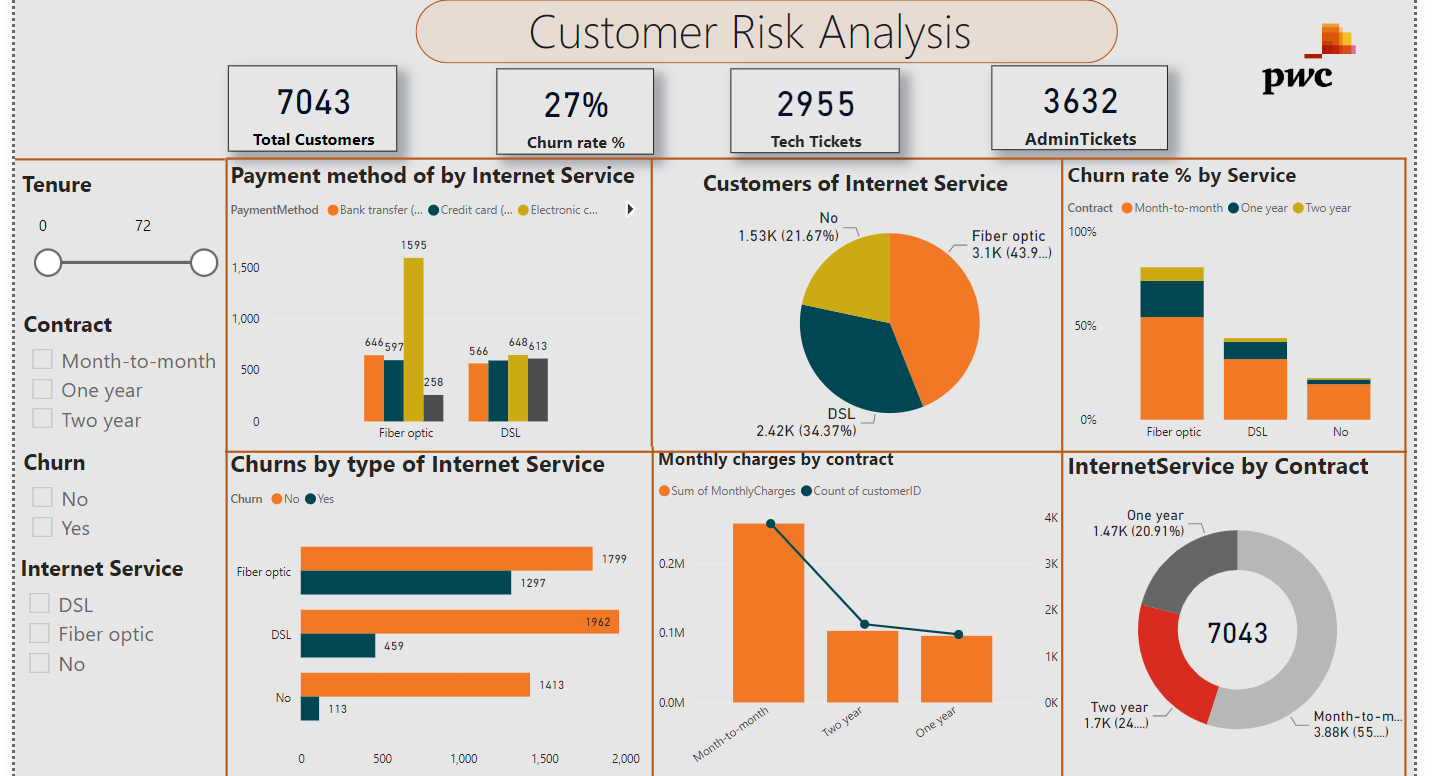

The dashboard page shown, as its layout file describes it:
{"tool":"powerbi","page":{"name":"Customer_Risk_Analysis","canvas":[1280,720],"ordinal":2},"visuals":[{"type":"card","fields":{"Values":["CountNonNull(Customer_Churn_Dataset.customerID)"]},"box":[194.2,67.9,154.7,78.9],"z":0},{"type":"textbox","box":[366.4,0,611.7,72.7],"z":1000},{"type":"slicer","title":"Churn","fields":{"Values":["Customer_Churn_Dataset.Churn"]},"box":[3,416.4,192.3,95.4],"z":2000},{"type":"slicer","title":"Internet Service","fields":{"Values":["Customer_Churn_Dataset.InternetService"]},"box":[0,513.3,192.3,127.2],"z":3000},{"type":"clusteredBarChart","title":"Churns by type of Internet Service","fields":{"Category":["Customer_Churn_Dataset.InternetService"],"Y":["CountNonNull(Customer_Churn_Dataset.Churn)"],"Series":["Customer_Churn_Dataset.Churn"]},"box":[192.3,416.4,407.3,302.8],"z":4000},{"type":"slicer","title":"Contract","fields":{"Values":["Customer_Churn_Dataset.Contract"]},"box":[3,289.2,192.3,127.2],"z":5000},{"type":"pieChart","title":"Customers of Internet Service","fields":{"Category":["Customer_Churn_Dataset.InternetService"],"Y":["CountNonNull(Customer_Churn_Dataset.customerID)"]},"box":[623.9,160.5,351.3,257.4],"z":6000},{"type":"card","fields":{"Values":["Customer_Churn_Dataset.Churn rate %"]},"box":[440.5,69.5,143.7,78.9],"z":7000},{"type":"card","fields":{"Values":["Sum(Customer_Churn_Dataset.numAdminTickets)"]},"box":[893.7,67.9,161.1,77.4],"z":8000},{"type":"clusteredColumnChart","title":"Payment method of by Internet Service","fields":{"Category":["Customer_Churn_Dataset.InternetService"],"Series":["Customer_Churn_Dataset.PaymentMethod"],"Y":["CountNonNull(Customer_Churn_Dataset.customerID)"]},"box":[192.6,153.2,390,266.8],"z":9000},{"type":"donutChart","title":"InternetService by Contract","fields":{"Category":["Customer_Churn_Dataset.Contract"],"Y":["CountNonNull(Customer_Churn_Dataset.InternetService)"]},"box":[958.4,416.8,320.5,303.2],"z":10000},{"type":"lineClusteredColumnComboChart","title":"Monthly charges by contract","fields":{"Y":["Sum(Customer_Churn_Dataset.MonthlyCharges)"],"Category":["Customer_Churn_Dataset.Contract"],"Y2":["CountNonNull(Customer_Churn_Dataset.customerID)"]},"box":[583,416.4,375.5,302.8],"z":11000},{"type":"card","fields":{"Values":["CountNonNull(Customer_Churn_Dataset.Contract)"]},"box":[1070.5,567.8,95.4,33.3],"z":12000},{"type":"slicer","title":"Tenure","fields":{"Values":["Customer_Churn_Dataset.tenure"]},"box":[1.5,162,192.3,113.6],"z":13000},{"type":"image","box":[1088.7,0,190.8,122.7],"z":14000},{"type":"columnChart","title":"Churn rate % by Service","fields":{"Y":["Customer_Churn_Dataset.Churn rate %"],"Series":["Customer_Churn_Dataset.Contract"],"Category":["Customer_Churn_Dataset.InternetService"]},"box":[958.4,153.2,320.5,265.3],"z":15000},{"type":"shape","box":[366.3,6.3,642.6,58.4],"z":16000},{"type":"shape","box":[193.8,122.7,1079.6,60.6],"z":17000},{"type":"shape","box":[163.5,152.9,60.6,566.3],"z":18000},{"type":"shape","box":[1265.9,152.9,13.6,566.3],"z":19000},{"type":"shape","box":[0,115.1,192.3,75.7],"z":20000},{"type":"shape","box":[552.7,152.9,59.1,263.5],"z":21000},{"type":"shape","box":[941.8,152.9,33.3,263.5],"z":22000},{"type":"shape","box":[566.3,416.4,33.3,302.8],"z":23000},{"type":"shape","box":[941.8,416.4,33.3,302.8],"z":24000},{"type":"card","fields":{"Values":["Customer_Churn_Dataset.Total Tech Tickets"]},"box":[655.3,69.5,154.7,77.4],"z":25000},{"type":"shape","box":[192.6,404.2,1081.6,31.6],"z":26000}]}

Visuals, with their boxes on the page's 1280x720 design canvas (x1, y1, x2, y2). These are canvas units, not pixel positions in the 1447x776 screenshot, which may show the page scaled, cropped or inside an application window:
card - CountNonNull(Customer_Churn_Dataset.customerID): {"left": 194, "top": 68, "right": 349, "bottom": 147}
textbox: {"left": 366, "top": 0, "right": 978, "bottom": 73}
"Churn" slicer: {"left": 3, "top": 416, "right": 195, "bottom": 512}
"Internet Service" slicer: {"left": 0, "top": 513, "right": 192, "bottom": 640}
"Churns by type of Internet Service" clusteredBarChart: {"left": 192, "top": 416, "right": 600, "bottom": 719}
"Contract" slicer: {"left": 3, "top": 289, "right": 195, "bottom": 416}
"Customers of Internet Service" pieChart: {"left": 624, "top": 160, "right": 975, "bottom": 418}
card - Customer_Churn_Dataset.Churn rate %: {"left": 440, "top": 70, "right": 584, "bottom": 148}
card - Sum(Customer_Churn_Dataset.numAdminTickets): {"left": 894, "top": 68, "right": 1055, "bottom": 145}
"Payment method of by Internet Service" clusteredColumnChart: {"left": 193, "top": 153, "right": 583, "bottom": 420}
"InternetService by Contract" donutChart: {"left": 958, "top": 417, "right": 1279, "bottom": 720}
"Monthly charges by contract" lineClusteredColumnComboChart: {"left": 583, "top": 416, "right": 958, "bottom": 719}
card - CountNonNull(Customer_Churn_Dataset.Contract): {"left": 1070, "top": 568, "right": 1166, "bottom": 601}
"Tenure" slicer: {"left": 2, "top": 162, "right": 194, "bottom": 276}
image: {"left": 1089, "top": 0, "right": 1280, "bottom": 123}
"Churn rate % by Service" columnChart: {"left": 958, "top": 153, "right": 1279, "bottom": 418}
shape: {"left": 366, "top": 6, "right": 1009, "bottom": 65}
shape: {"left": 194, "top": 123, "right": 1273, "bottom": 183}
shape: {"left": 164, "top": 153, "right": 224, "bottom": 719}
shape: {"left": 1266, "top": 153, "right": 1280, "bottom": 719}
shape: {"left": 0, "top": 115, "right": 192, "bottom": 191}
shape: {"left": 553, "top": 153, "right": 612, "bottom": 416}
shape: {"left": 942, "top": 153, "right": 975, "bottom": 416}
shape: {"left": 566, "top": 416, "right": 600, "bottom": 719}
shape: {"left": 942, "top": 416, "right": 975, "bottom": 719}
card - Customer_Churn_Dataset.Total Tech Tickets: {"left": 655, "top": 70, "right": 810, "bottom": 147}
shape: {"left": 193, "top": 404, "right": 1274, "bottom": 436}
